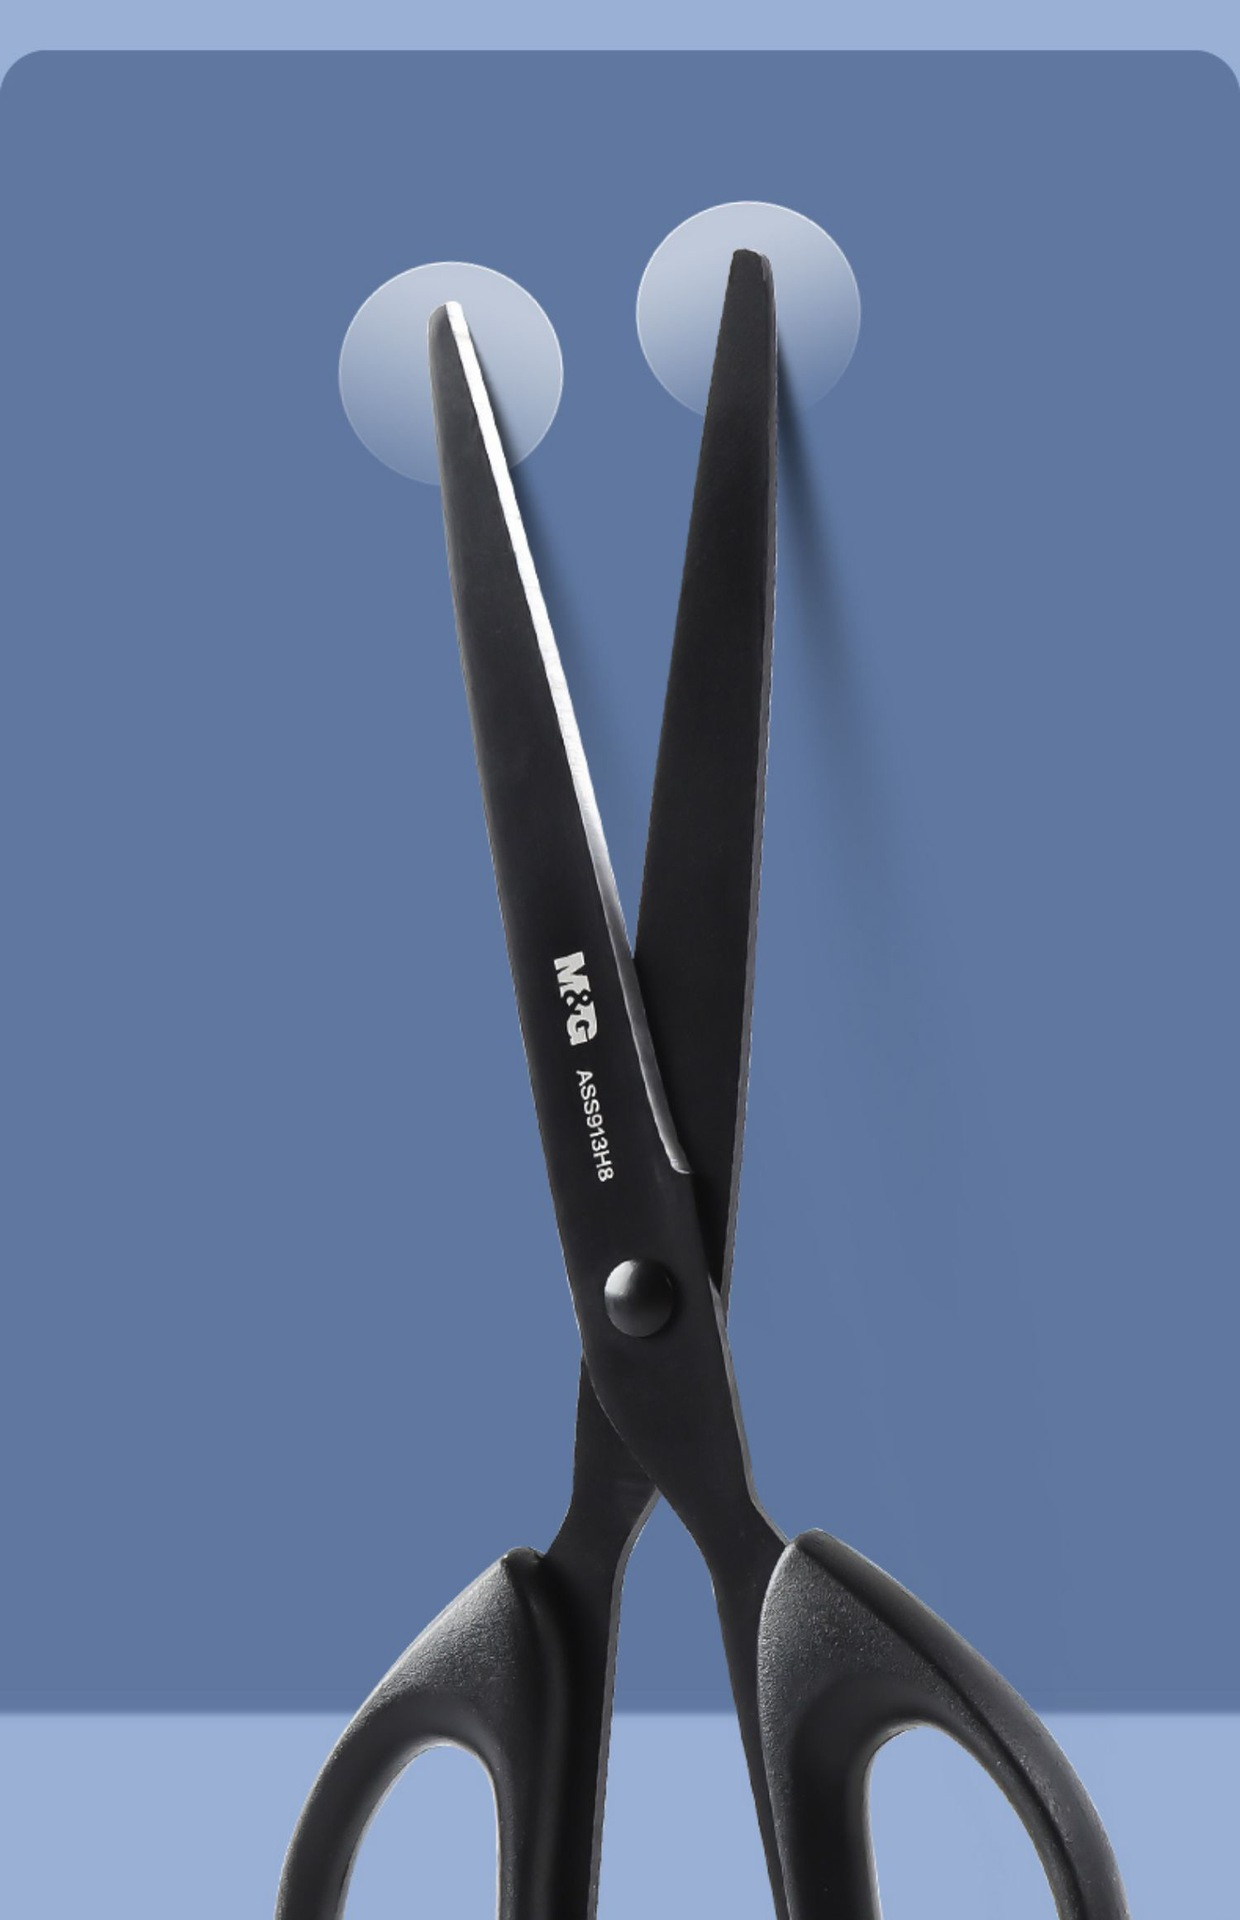scissors: (272, 250, 1138, 1920)
